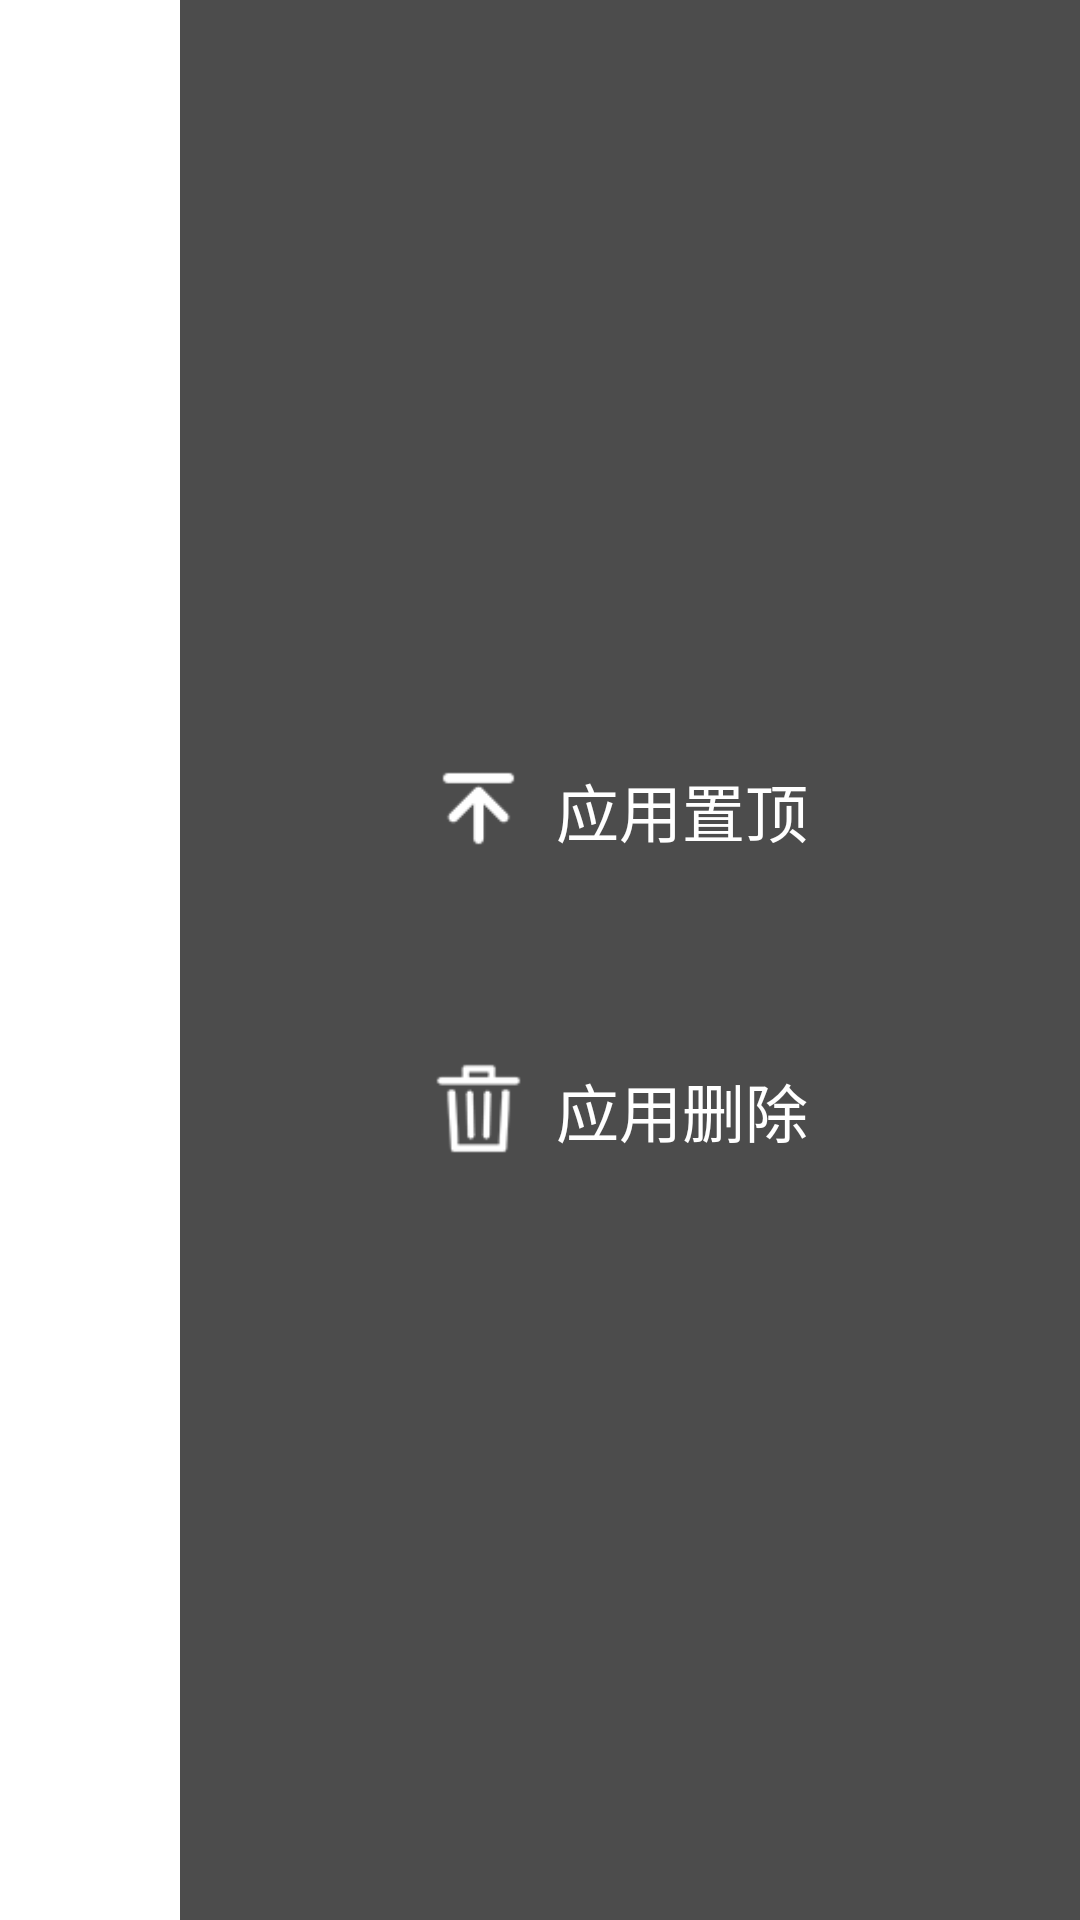

Point at icon controls on the screen. Image size 1080x1920, points as [x,y].
delete foucused: [478,1108]
dingzhi foucused: [478,808]
